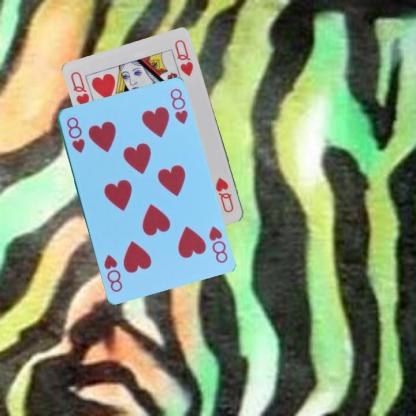8h: (206, 223, 228, 264), (64, 114, 86, 154)
Qh: (68, 69, 91, 109), (213, 174, 235, 214)
